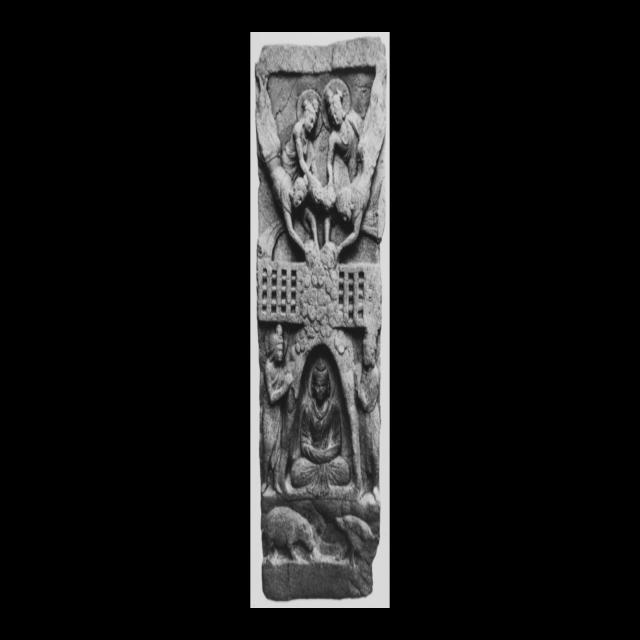buddha-sitting: (290, 356, 350, 497)
